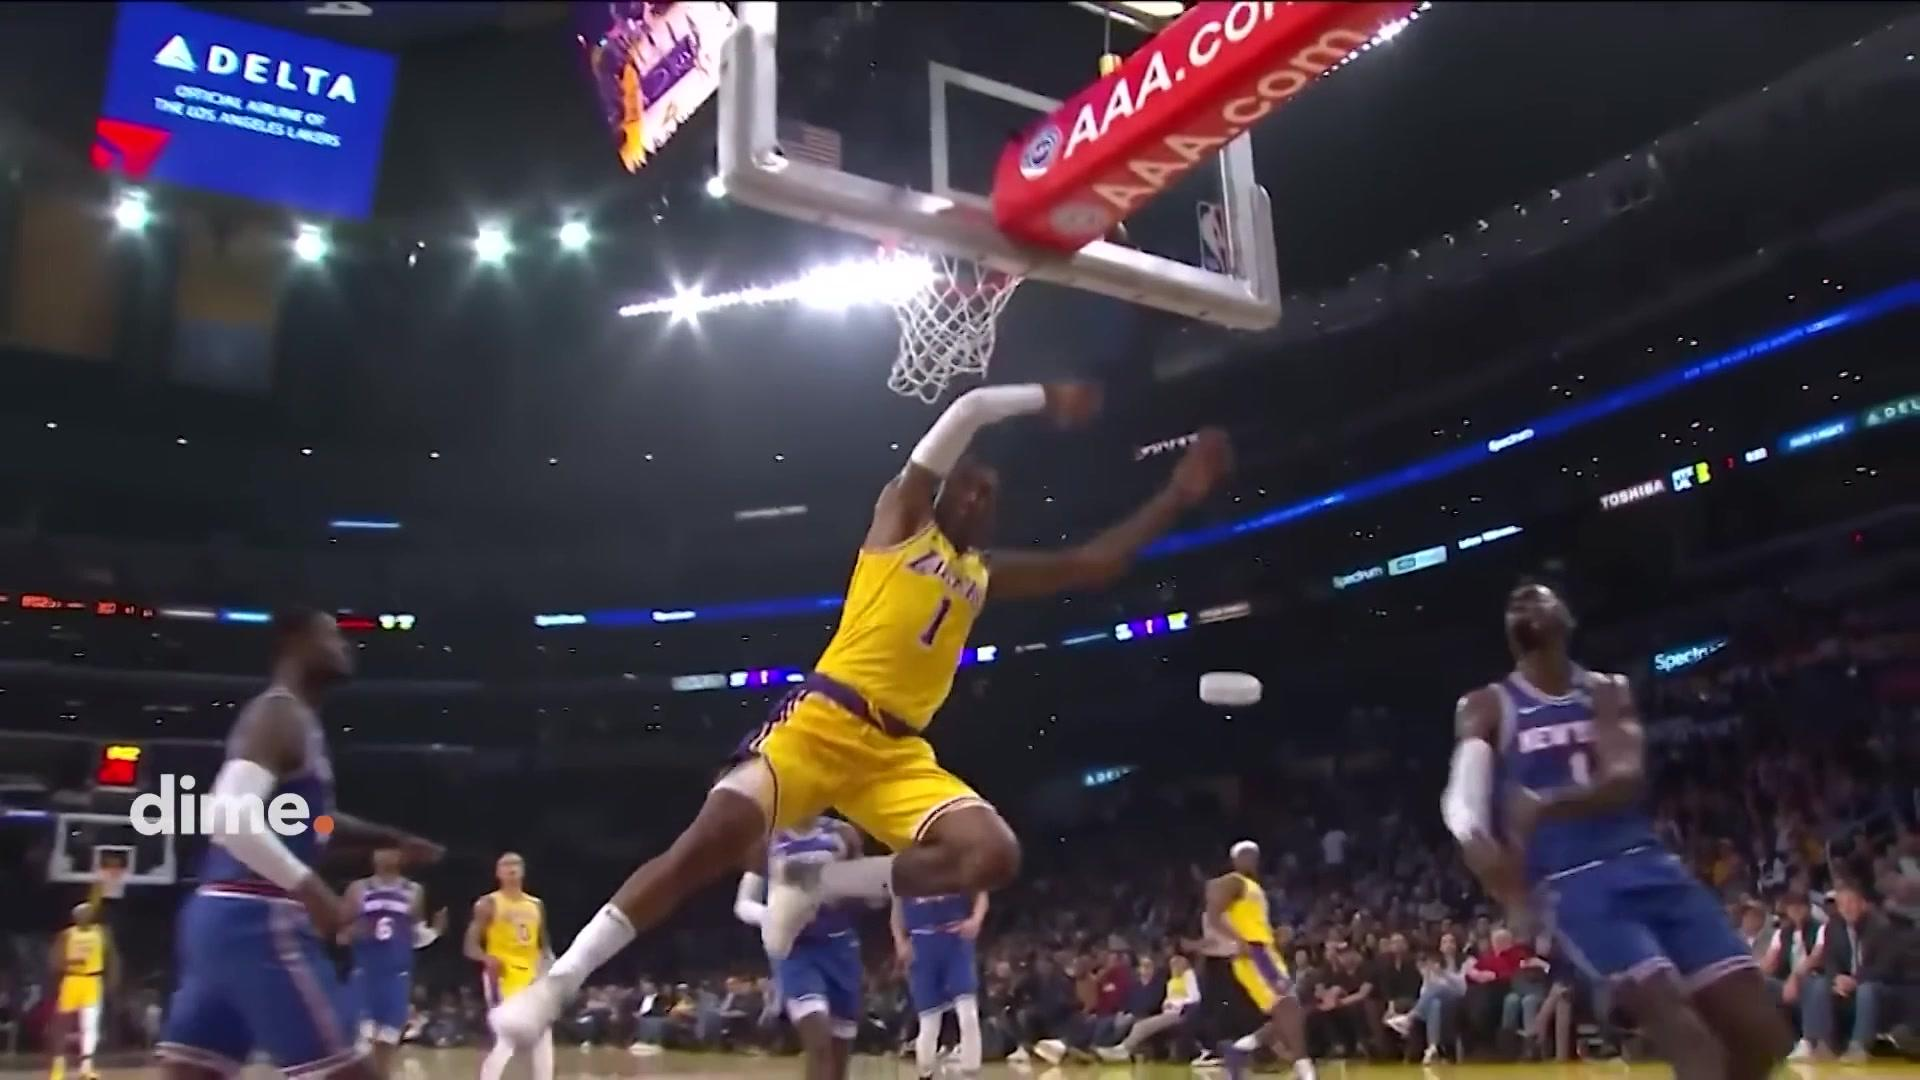no_foul: (752, 411, 1862, 1080)
